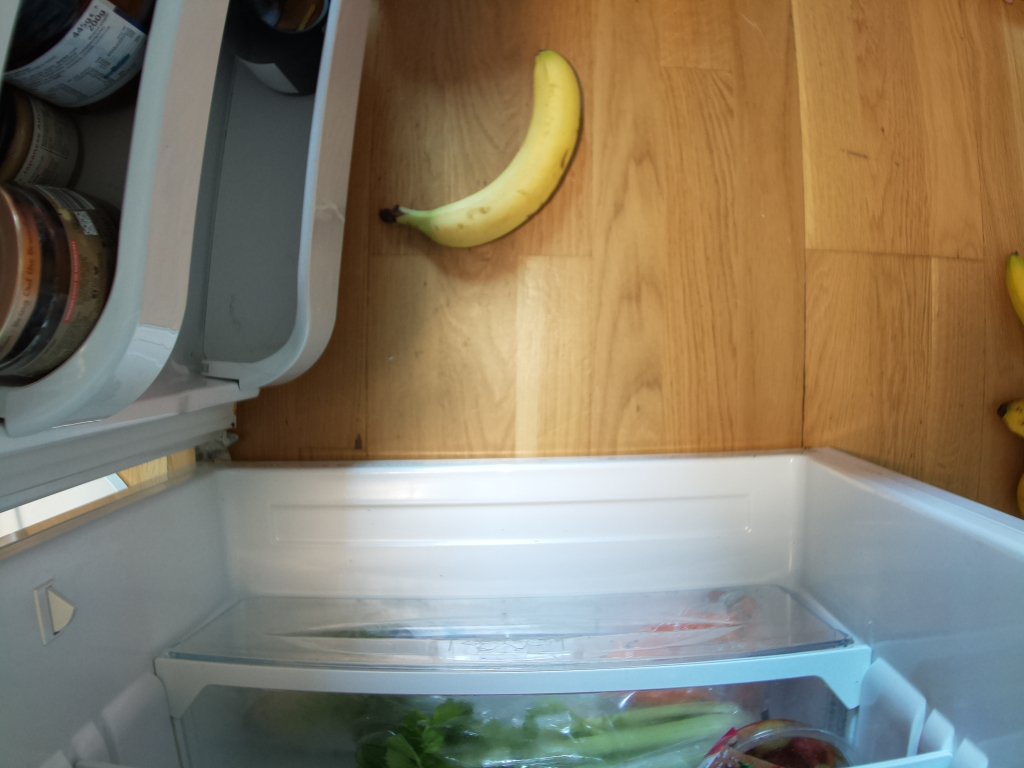banana: (384, 45, 589, 252)
